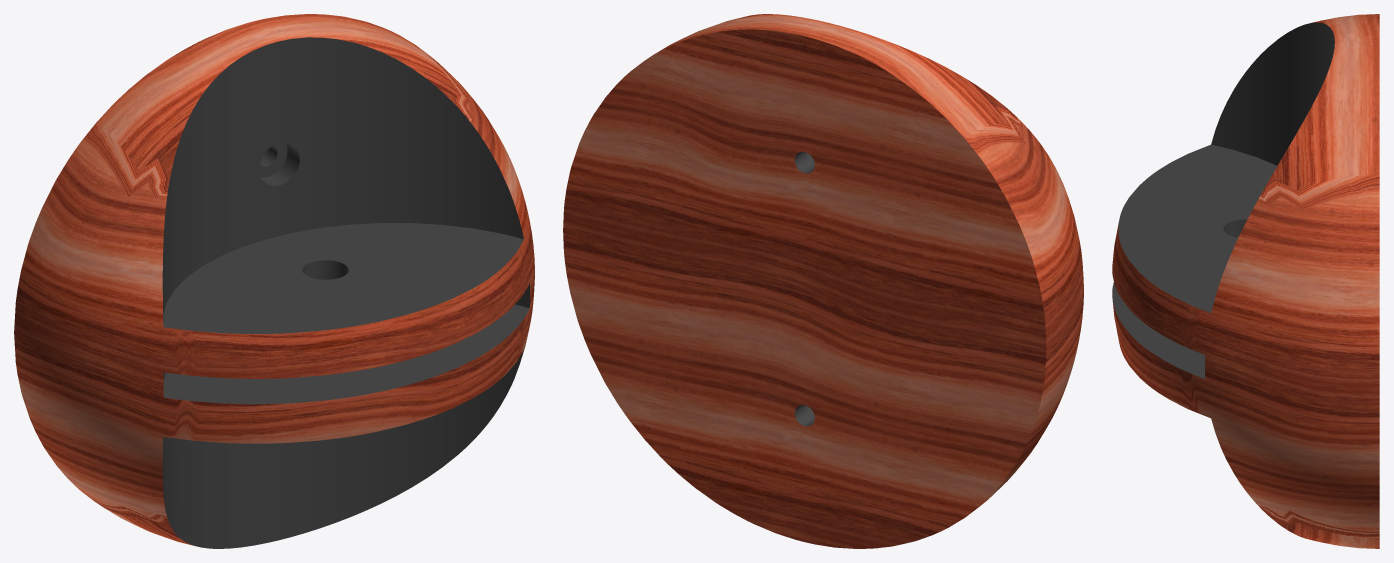
Rendered from Practice48_3.glb.
3 views of the same model, side by side, from view 1: azimuth 30°, elevation 25°; view 2: azimuth 150°, elevation 25°; view 3: azimuth 270°, elevation 25° (orthographic). The views are drawn at different scales.
Parts seen in each view (by area): view 1: Part, Part 2; view 2: Part 2, Part; view 3: Part 2, Part.
Part boxes in pixels (x1,y1,x2,y2): Part: (162, 37, 529, 548); Part 2: (14, 14, 534, 545); Part 2: (563, 14, 1083, 548); Part: (794, 152, 814, 426); Part 2: (1112, 14, 1379, 548); Part: (1112, 22, 1334, 378).
Bounding box in the file's own units: 1.52 × 1.52 × 0.7604.
Materials: 3 (1 with a texture image).
